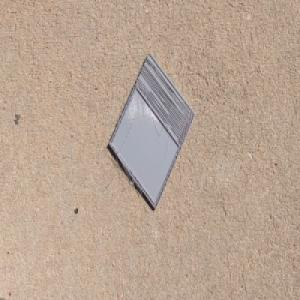PlasticPart: (108, 51, 196, 211)
